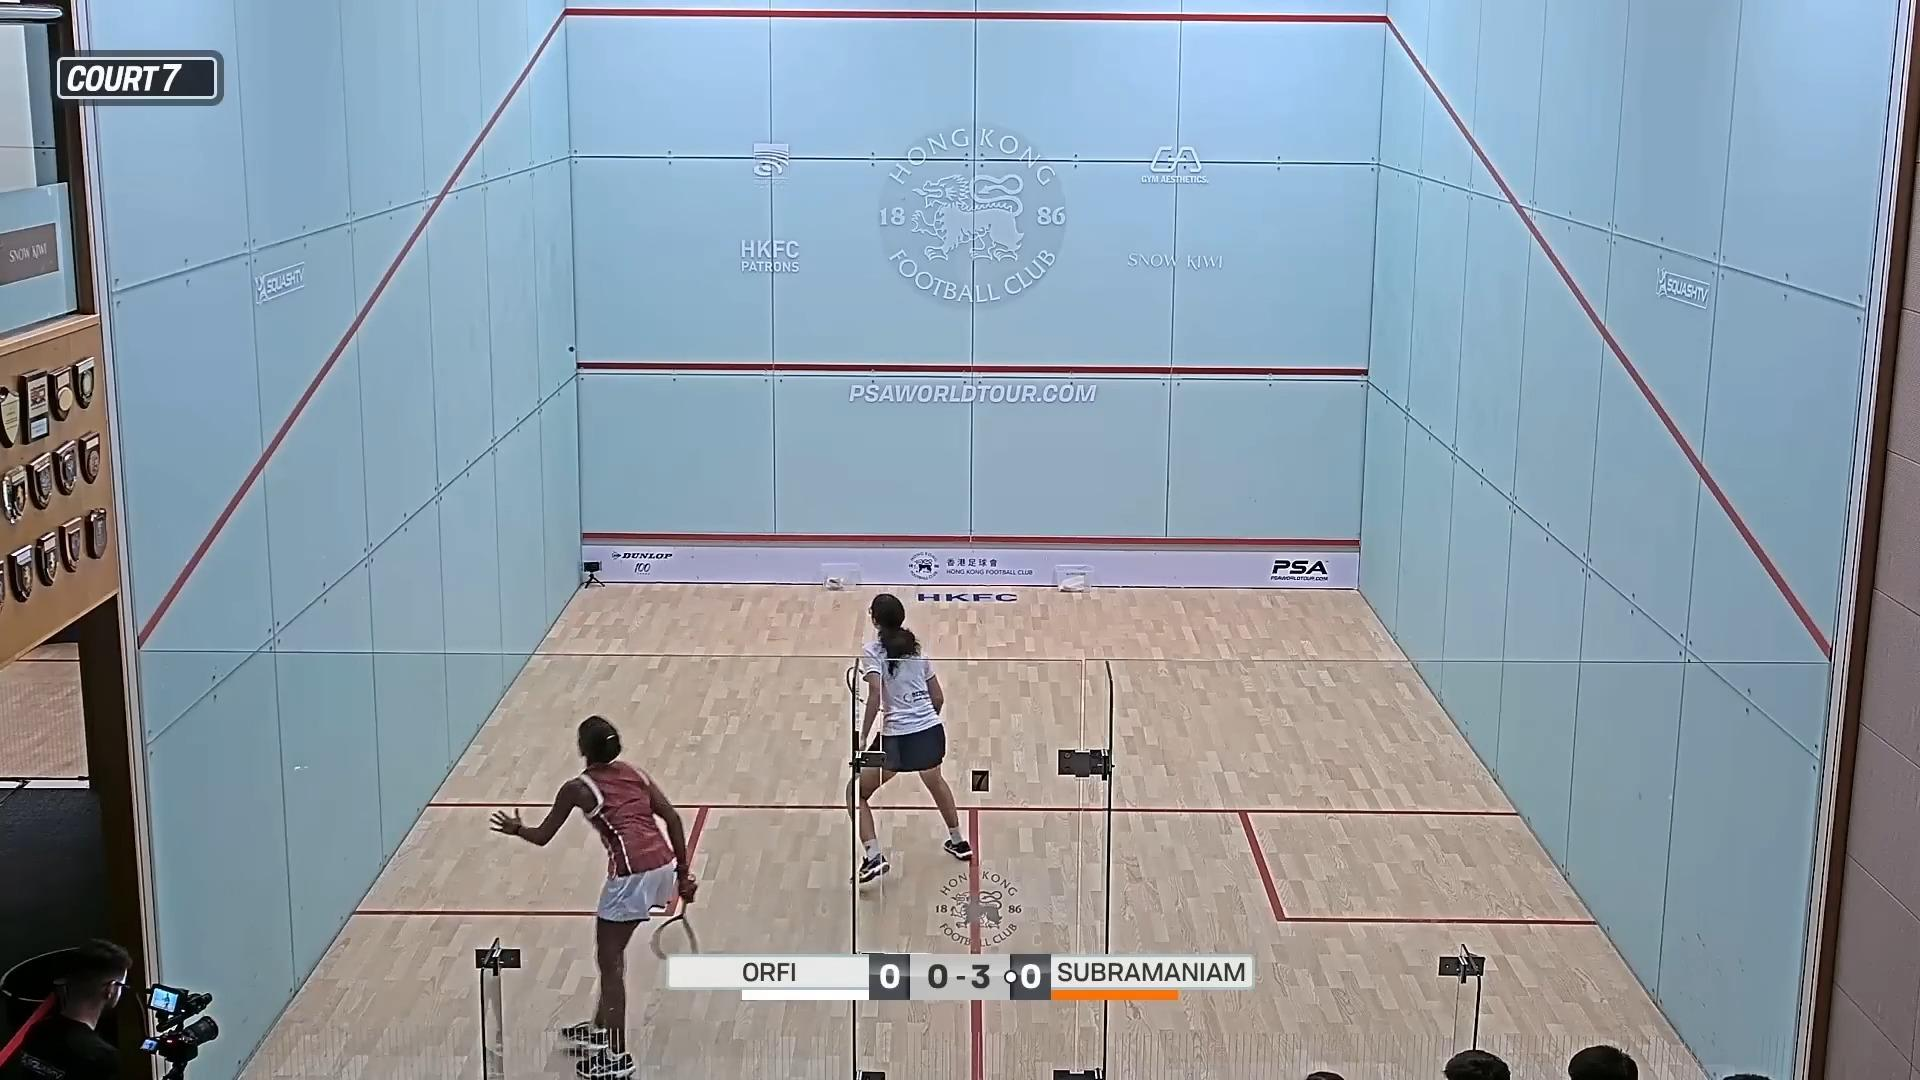Squash-Ball: (558, 331, 587, 371)
